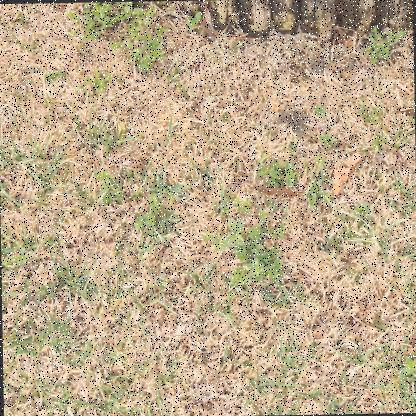Weeds: (200, 197, 292, 293), (67, 1, 167, 74), (94, 161, 171, 246), (254, 153, 327, 209), (362, 24, 402, 64)
